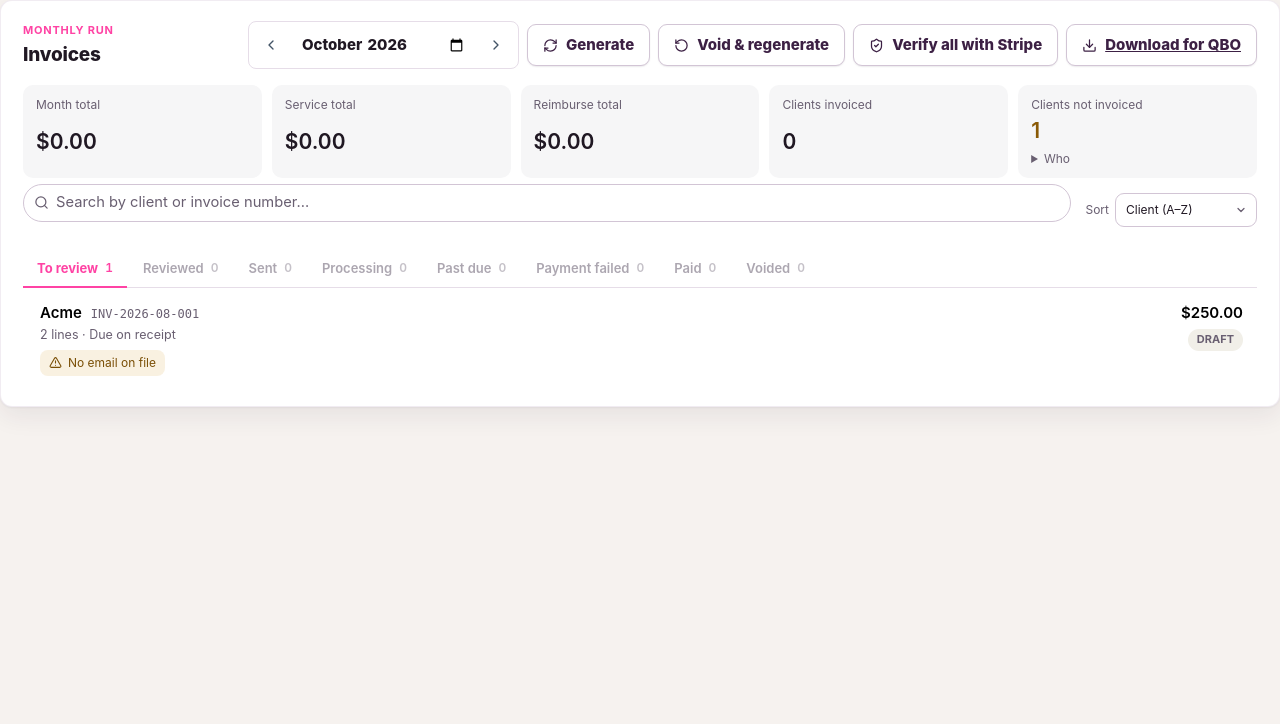
Test: InvoiceMonthRun — the ad hoc block › drops a courtesy line to nothing and takes it out of the running total
Step 1. Click the text "INV-2026-08-001" → (145, 315), box [91,306,199,324]
(page scrolled)
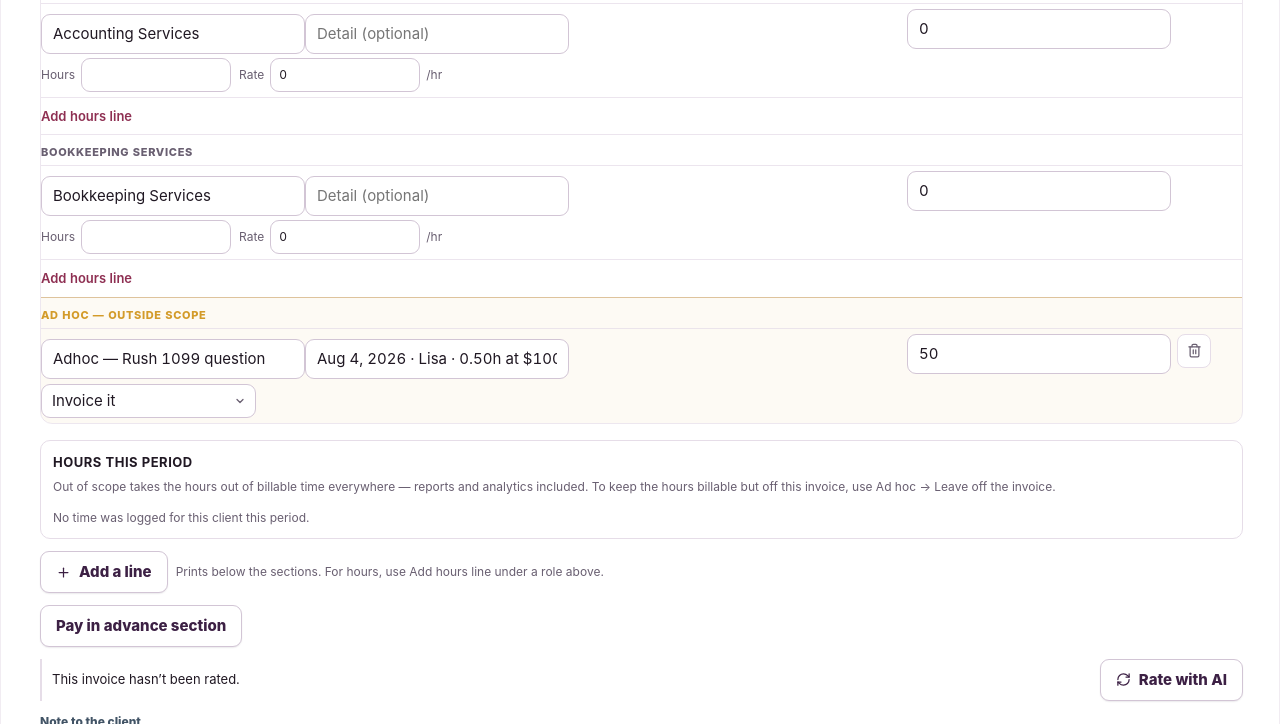
Step 2. Select "Show detail only ($0.00)" in the dropdown named "What to do with this ad hoc work" → (148, 401), box [41,384,256,418]
(page scrolled)
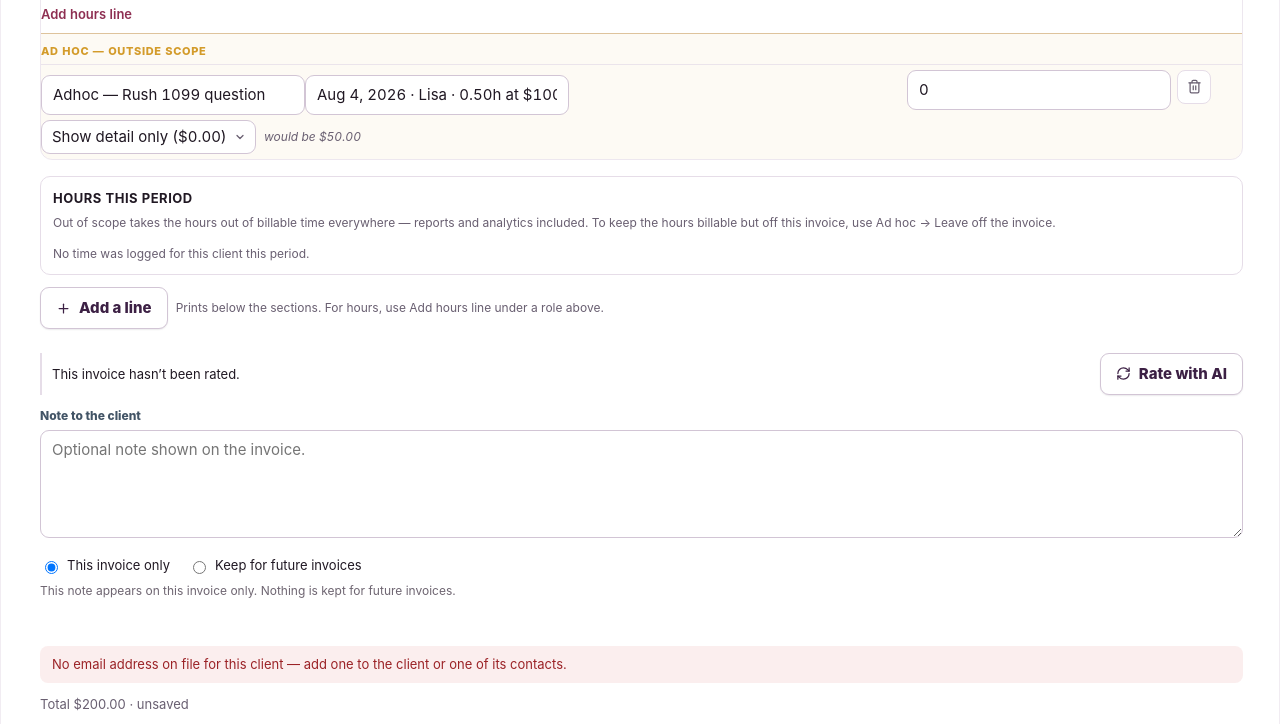
Now the number field named "Amount" holds "0", box [907,70,1171,110]
Now the text "Total $200.00 · unsaved" is shown, box [40,695,189,714]
